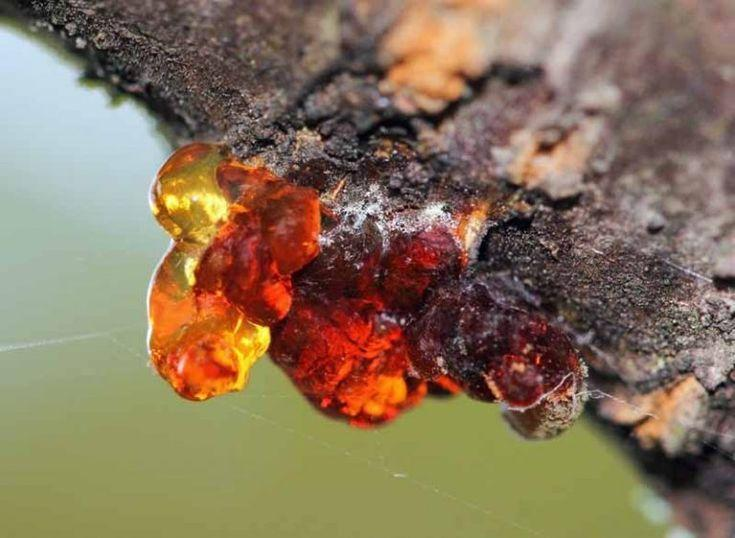gommosis: (148, 144, 296, 400), (409, 279, 584, 409), (269, 296, 424, 425), (381, 228, 461, 310), (261, 182, 319, 271)
